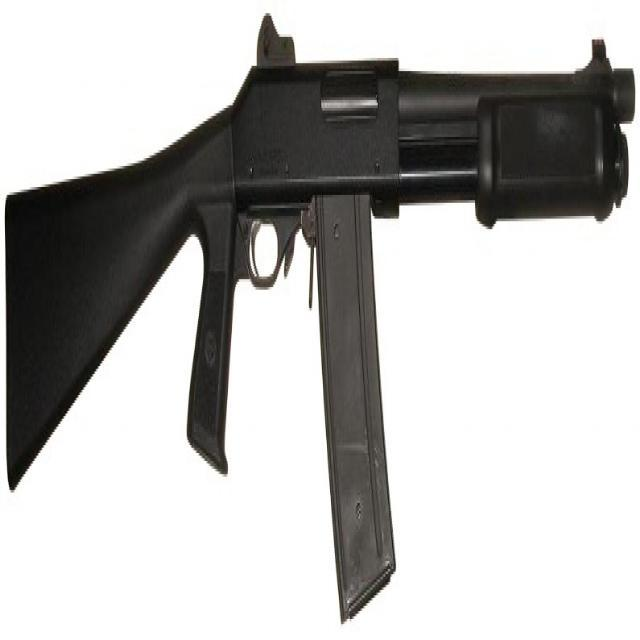gun-knife-thesis - v11 Yolov5 augmented: (7, 8, 633, 616)
